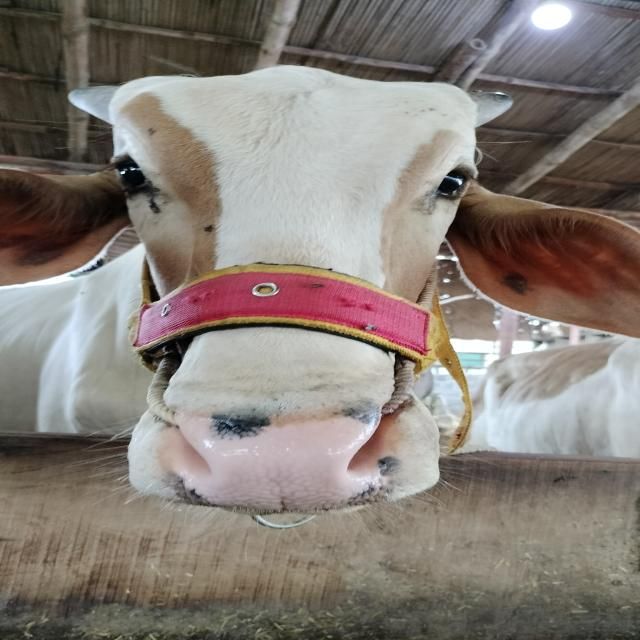muzzles: (150, 396, 402, 512)
